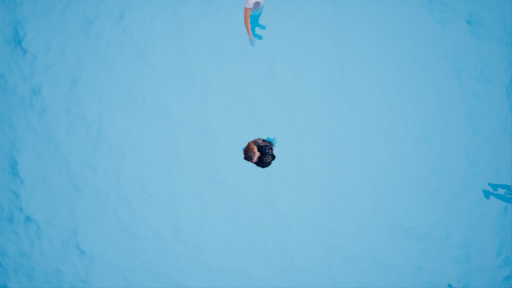person: (241, 132, 284, 174), (241, 1, 271, 48)
